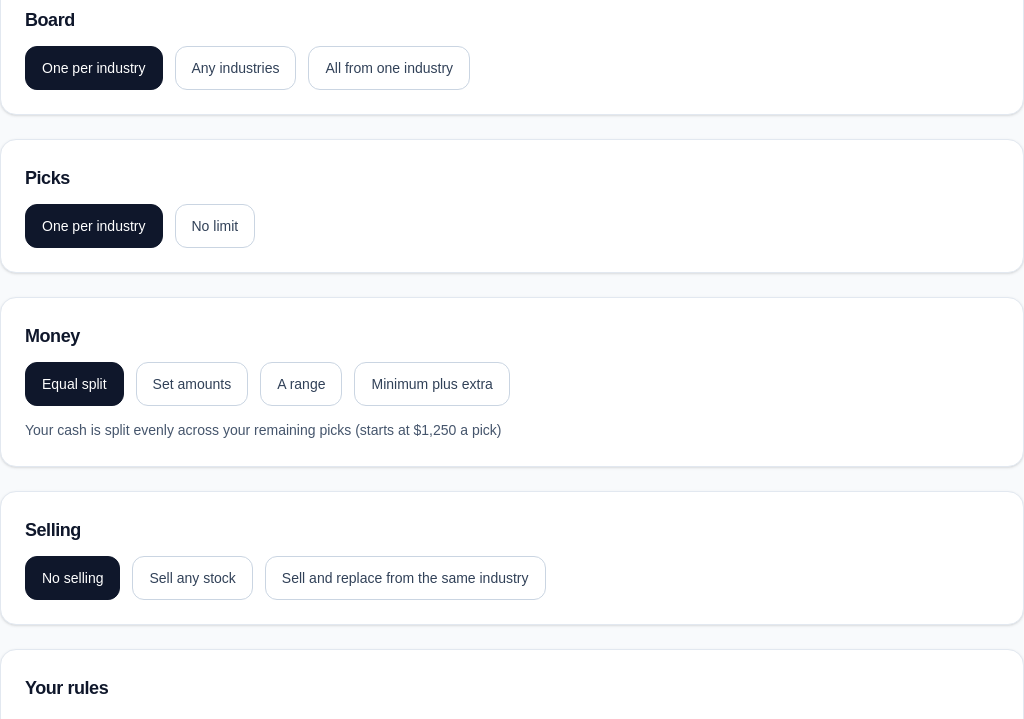
it: ConfigForm › shows the right extra inputs for each money kind
(page scrolled)
Expected: the text "Your cash is split evenly across your remaining picks" is shown, x1=25 y1=422 x2=421 y2=438
Click the button "Set amounts".
click(192, 384)  # box x1=136 y1=362 x2=248 y2=406
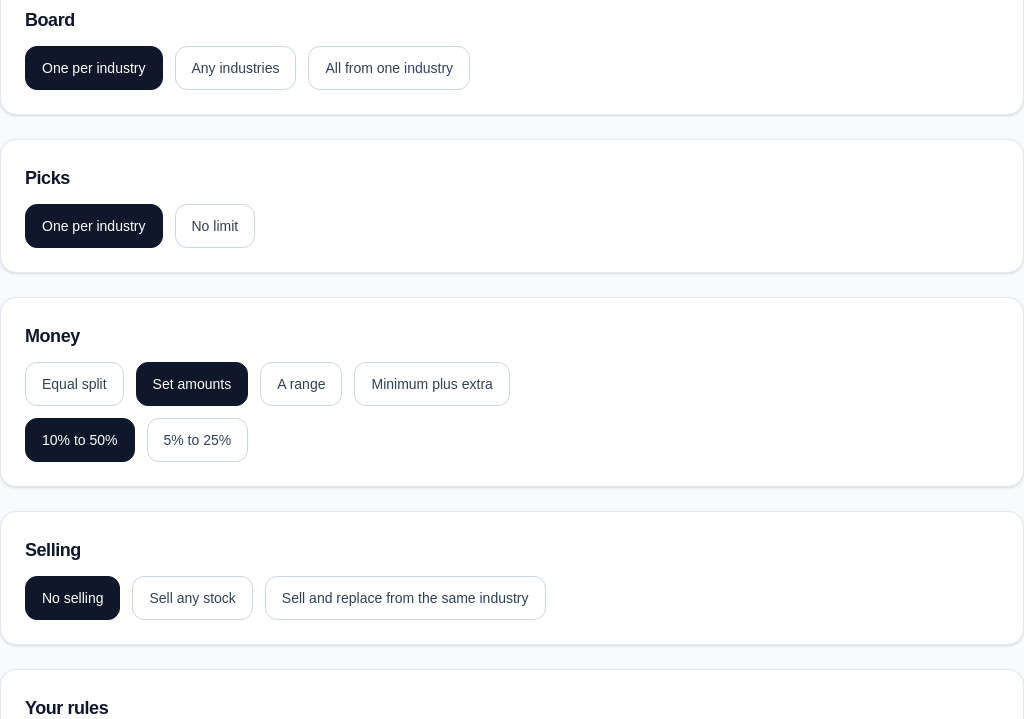
Expected: the button "10% to 50%" is shown, x1=25 y1=418 x2=134 y2=462
Expected: the button "5% to 25%" is shown, x1=146 y1=418 x2=248 y2=462
Click the button "A range".
click(301, 384)  # box x1=260 y1=362 x2=342 y2=406
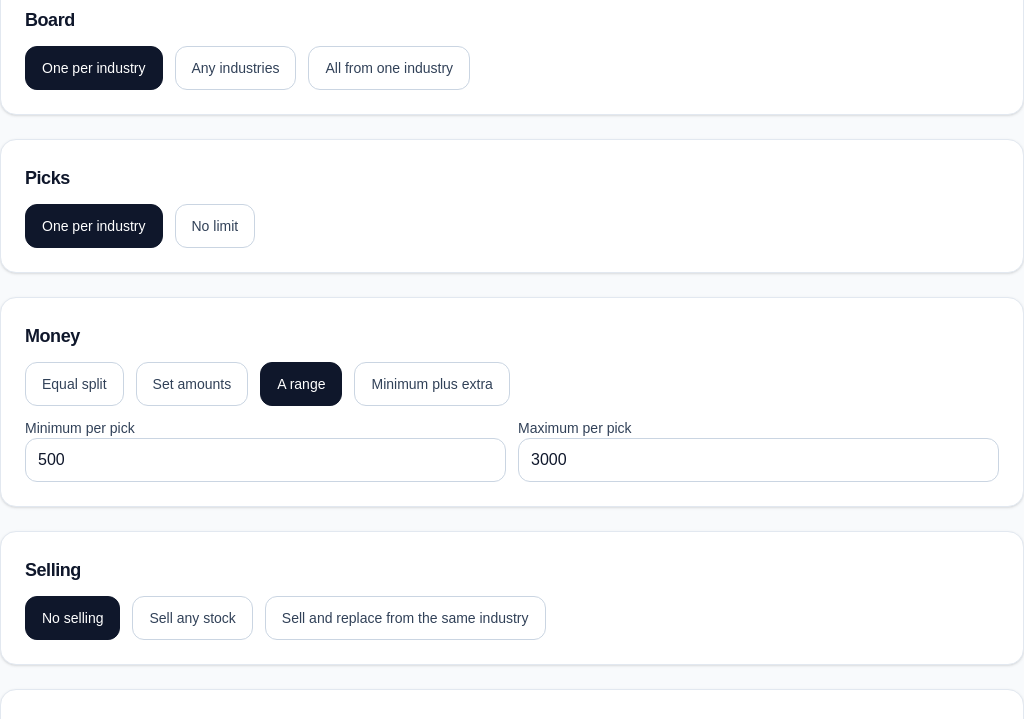
Expected: the number field labelled "Minimum per pick" is shown, x1=25 y1=438 x2=506 y2=482
Expected: the number field labelled "Maximum per pick" is shown, x1=518 y1=438 x2=999 y2=482
Click the button "Minimum plus extra".
click(432, 384)  # box x1=354 y1=362 x2=510 y2=406
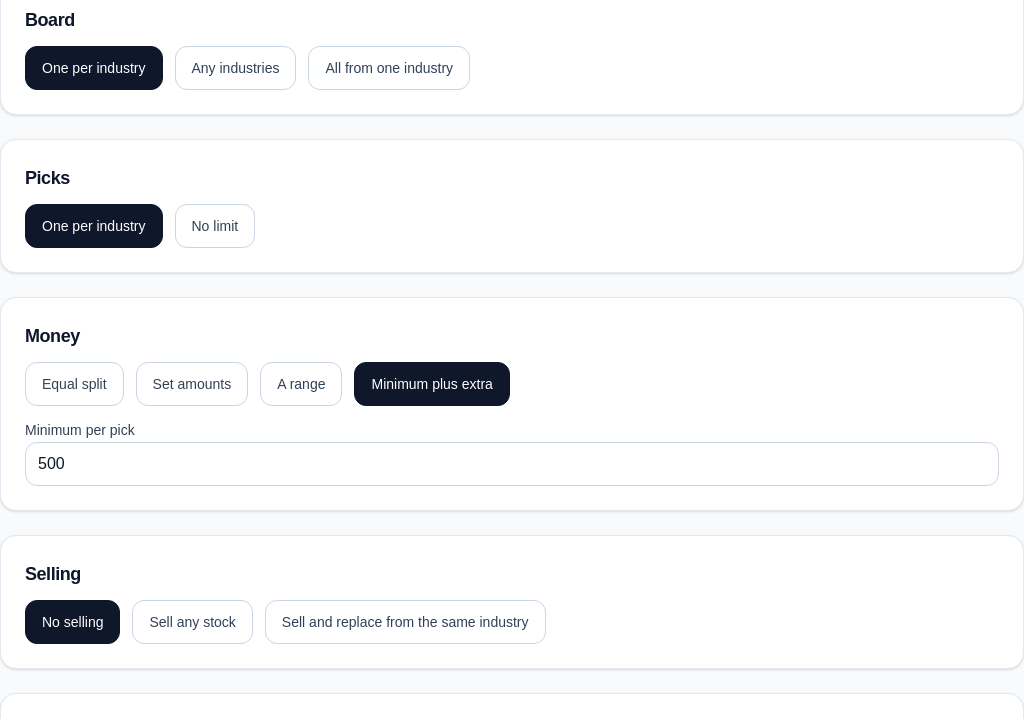
Expected: the number field labelled "Minimum per pick" is shown, x1=25 y1=442 x2=999 y2=486
Expected: the text labelled "Maximum per pick" is gone
